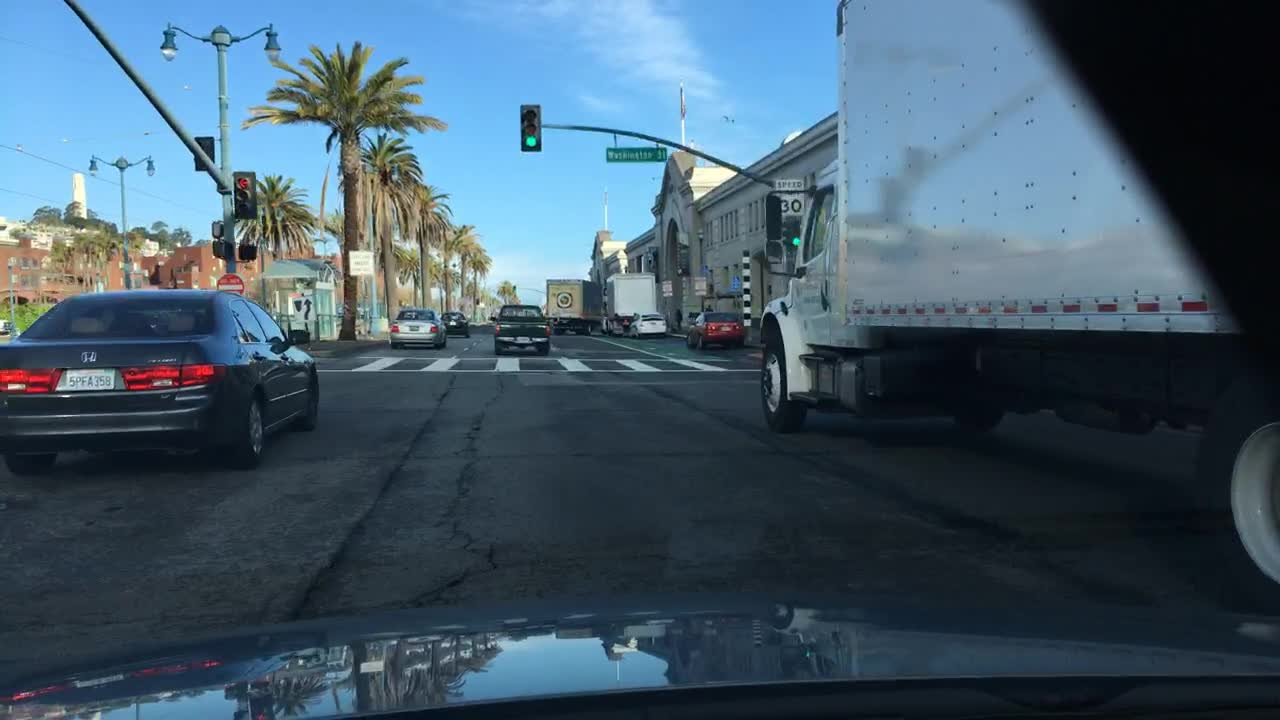car: (0, 288, 320, 470), (487, 304, 552, 354), (686, 310, 746, 350), (387, 308, 447, 348), (628, 308, 668, 337), (441, 310, 470, 337)
person: (700, 302, 717, 313), (674, 308, 683, 328)
traffic light: (233, 171, 257, 220), (518, 104, 542, 151), (191, 136, 214, 170), (789, 211, 803, 253), (210, 237, 233, 257), (780, 218, 791, 258), (234, 242, 257, 260), (208, 217, 224, 239)
traffic sign: (606, 143, 664, 162), (783, 179, 805, 214), (348, 248, 372, 275), (214, 272, 245, 292), (291, 292, 314, 317), (695, 276, 707, 296), (662, 281, 673, 296), (731, 276, 740, 292)
truck: (762, 1, 1276, 598), (603, 272, 658, 335), (545, 278, 602, 332)
